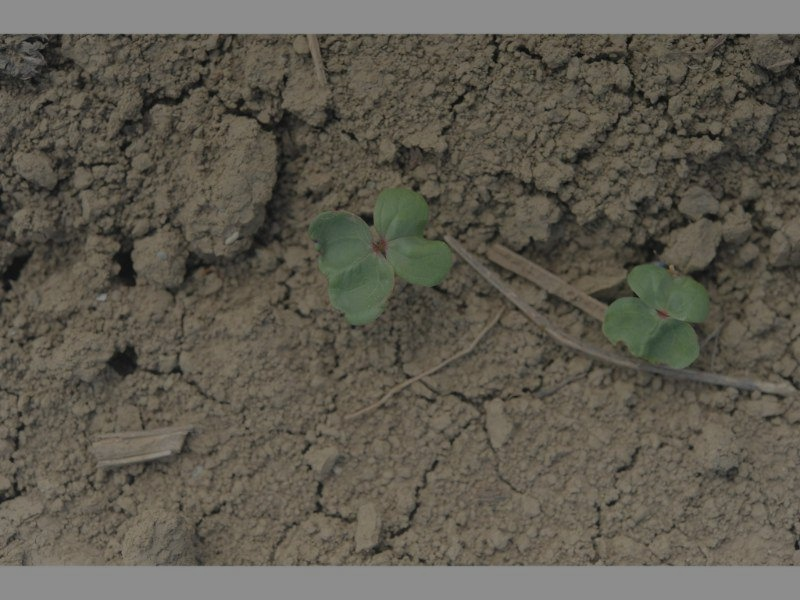cotton: (308, 189, 448, 327), (605, 261, 710, 371)
